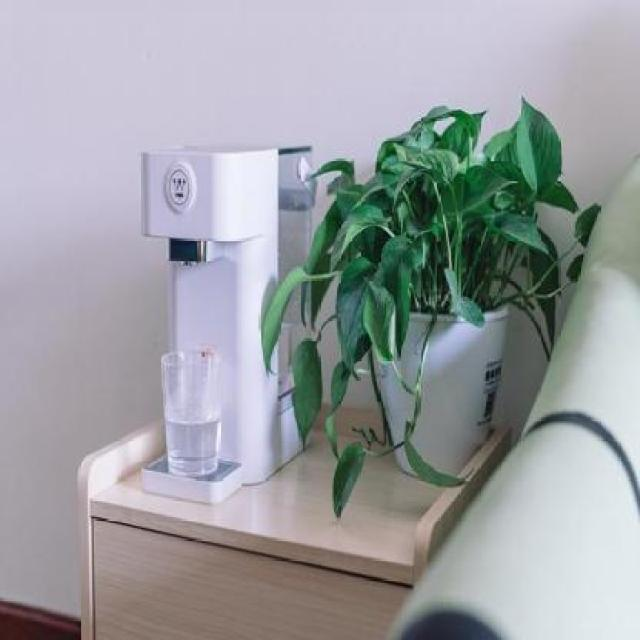cooler: (138, 140, 318, 507)
